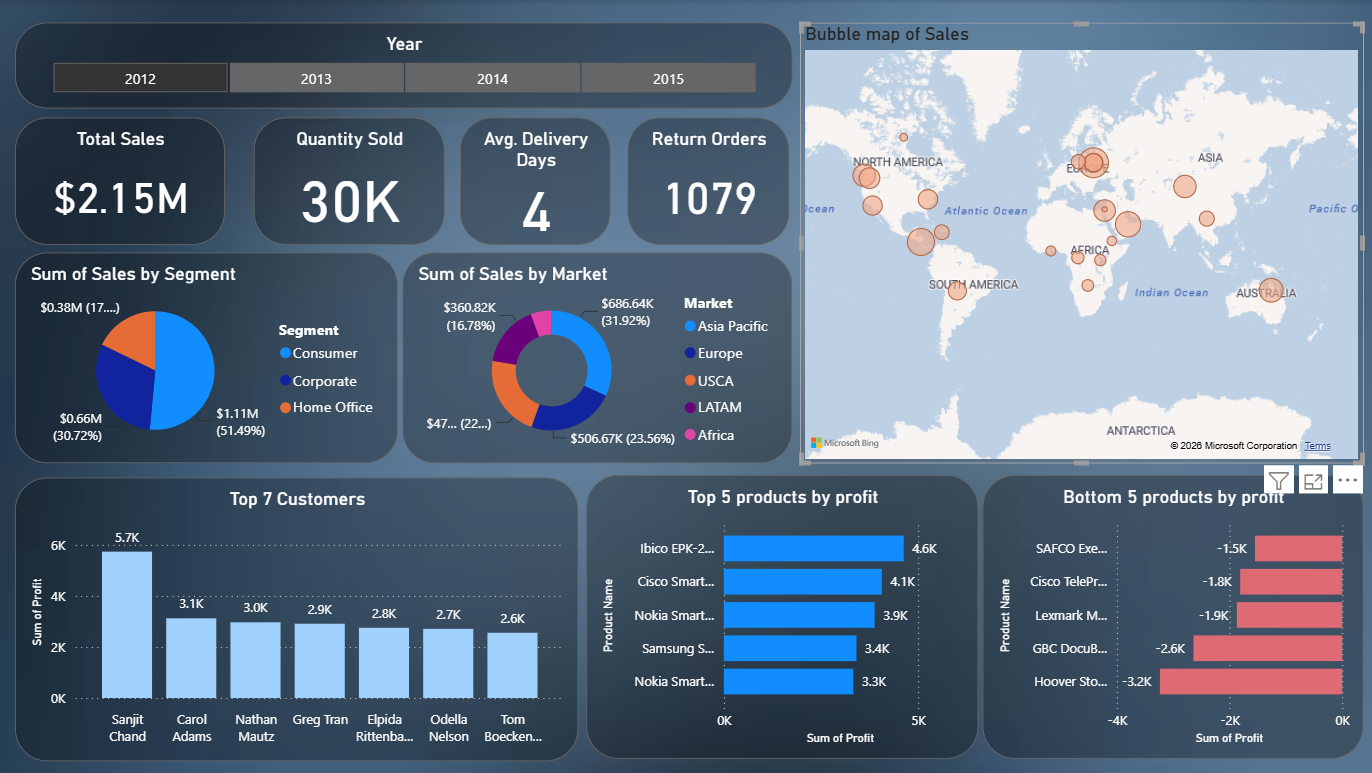

The dashboard page shown, as its layout file describes it:
{"tool":"powerbi","page":{"name":"Page 1","canvas":[1280,720],"ordinal":0},"visuals":[{"type":"card","title":"Total Sales","fields":{"Values":["Sum(Orders.Sales)"]},"box":[14,109.6,195.1,118.6],"z":0},{"type":"card","title":"Quantity Sold","fields":{"Values":["Sum(Orders.Quantity)"]},"box":[235.9,109.6,177.2,118.6],"z":1000},{"type":"card","title":"Avg. Delivery Days","fields":{"Values":["Avg(Orders.Delivery Days)"]},"box":[428.4,109.6,140.2,118.6],"z":2000},{"type":"slicer","title":"Year","fields":{"Values":["Orders.Year"]},"box":[14,20.4,722.9,80.3],"z":3000},{"type":"card","title":"Return Orders","fields":{"Values":["Sum(Returns.Return Status)"]},"box":[583.9,109.6,150.4,118.6],"z":4000},{"type":"map","title":"Bubble map of Sales","fields":{"Category":["Orders.Region"],"Size":["Sum(Orders.Sales)"]},"box":[744.5,20.4,524,410.5],"z":5000},{"type":"clusteredBarChart","title":"Top 5 products by profit","fields":{"Category":["Orders.Product Name"],"Y":["Sum(Orders.Profit)"]},"box":[545.7,441.8,364.6,263.9],"z":6000},{"type":"clusteredBarChart","title":"Bottom 5 products by profit","fields":{"Category":["Orders.Product Name"],"Y":["Sum(Orders.Profit)"]},"box":[914.1,442.4,354.4,263.9],"z":7000},{"type":"pieChart","fields":{"Category":["Orders.Segment"],"Y":["Sum(Orders.Sales)"]},"box":[14,234.6,355.7,196.3],"z":8000},{"type":"donutChart","fields":{"Category":["Orders.Market"],"Y":["Sum(Orders.Sales)"]},"box":[374.8,234.6,362.1,196.3],"z":9000},{"type":"clusteredColumnChart","title":"Top 7 Customers","fields":{"Category":["Orders.Customer Name"],"Y":["Sum(Orders.Profit)"]},"box":[14,443.7,524,263.9],"z":10000}]}

Visuals, with their boxes in screenshot pixels (x1, y1, x2, y2), scaled from the page's 1280x720 canvas onto the 1372x773 screenshot:
"Total Sales" card: pyautogui.locateOnScreen(15, 118, 224, 245)
"Quantity Sold" card: pyautogui.locateOnScreen(253, 118, 443, 245)
"Avg. Delivery Days" card: pyautogui.locateOnScreen(459, 118, 609, 245)
"Year" slicer: pyautogui.locateOnScreen(15, 22, 790, 108)
"Return Orders" card: pyautogui.locateOnScreen(626, 118, 787, 245)
"Bubble map of Sales" map: pyautogui.locateOnScreen(798, 22, 1360, 463)
"Top 5 products by profit" clusteredBarChart: pyautogui.locateOnScreen(585, 474, 976, 758)
"Bottom 5 products by profit" clusteredBarChart: pyautogui.locateOnScreen(980, 475, 1360, 758)
pieChart - Orders.Segment x Sum(Orders.Sales): pyautogui.locateOnScreen(15, 252, 396, 463)
donutChart - Orders.Market x Sum(Orders.Sales): pyautogui.locateOnScreen(402, 252, 790, 463)
"Top 7 Customers" clusteredColumnChart: pyautogui.locateOnScreen(15, 476, 577, 760)
